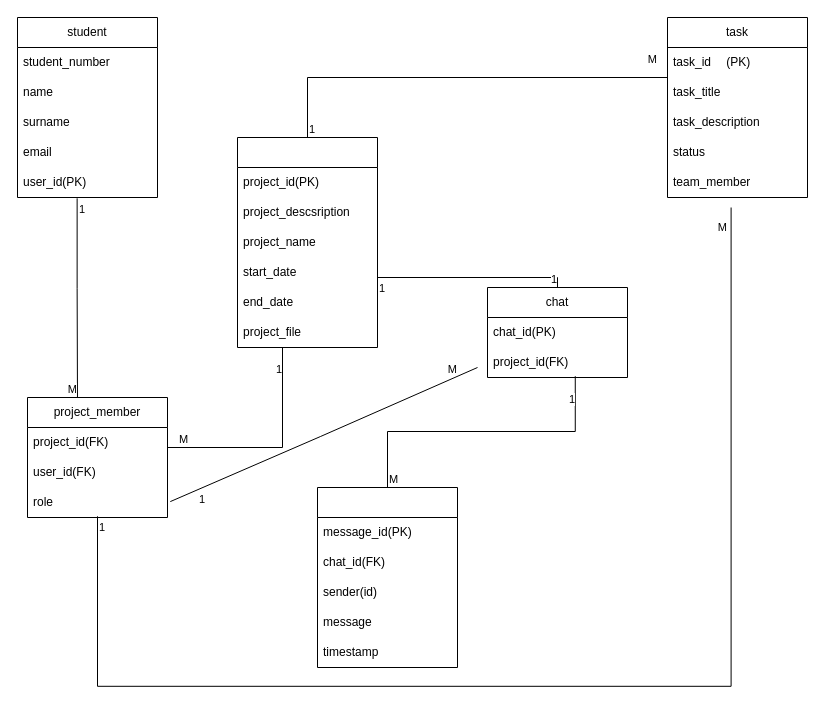
This 825x705 diagram has some shape labels left out. Each missing label, with the box of its shape:
messages: (316, 486, 458, 668)
projects: (236, 136, 378, 348)
